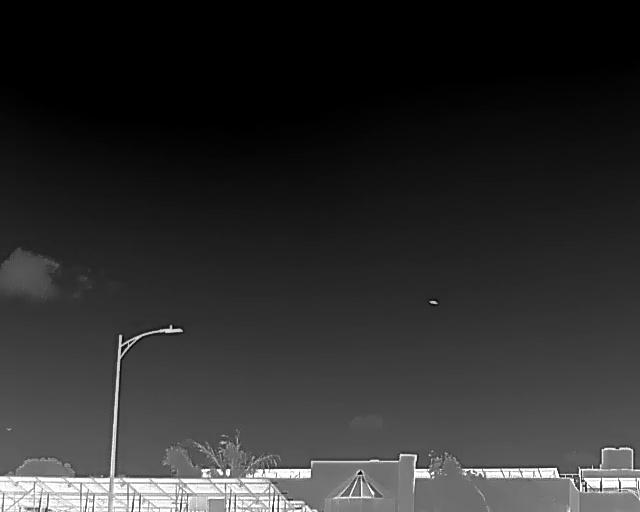fpv-drone: (428, 299, 439, 306)
